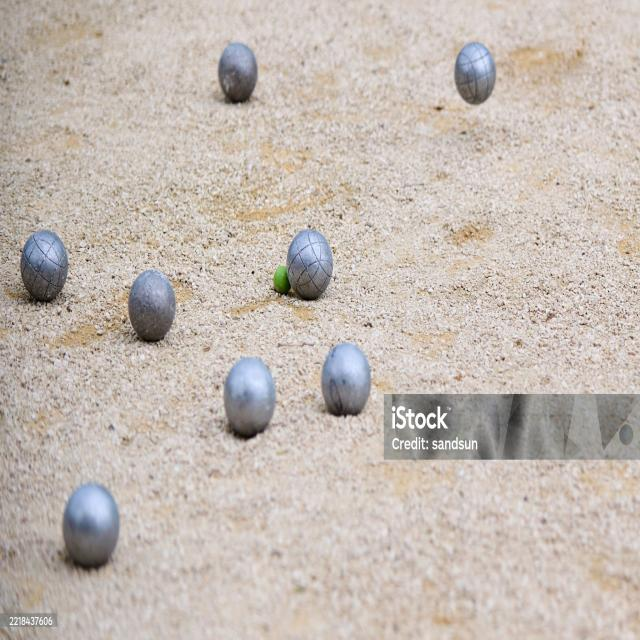hatball: (268, 260, 299, 303)
petanque: (213, 345, 282, 451), (57, 476, 123, 568), (274, 221, 341, 306), (316, 336, 374, 429), (121, 262, 181, 351), (14, 226, 72, 307), (209, 37, 265, 110), (447, 37, 498, 109)
